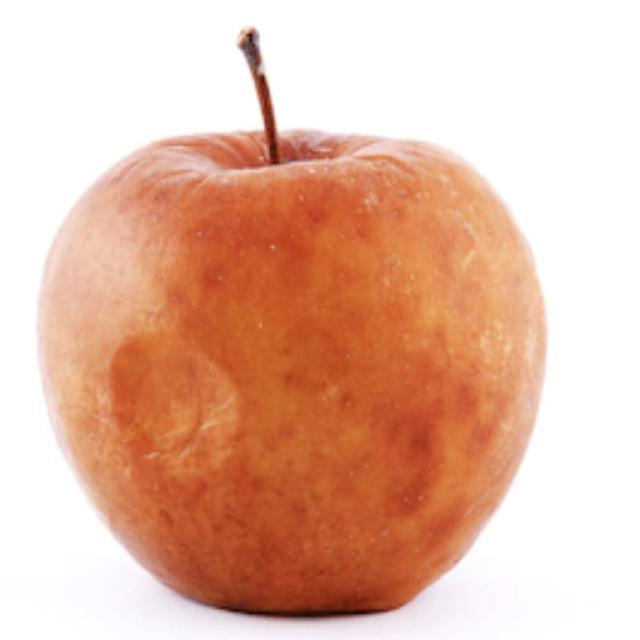Rotten: (41, 117, 554, 606)
